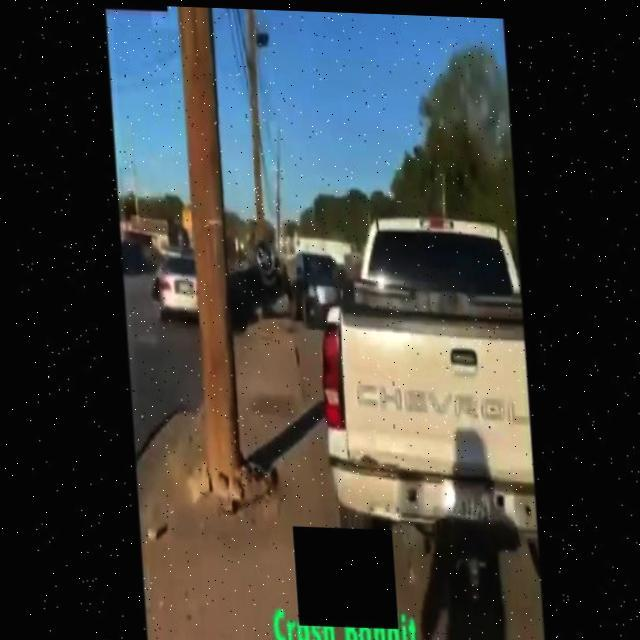normal: (300, 183, 557, 550)
